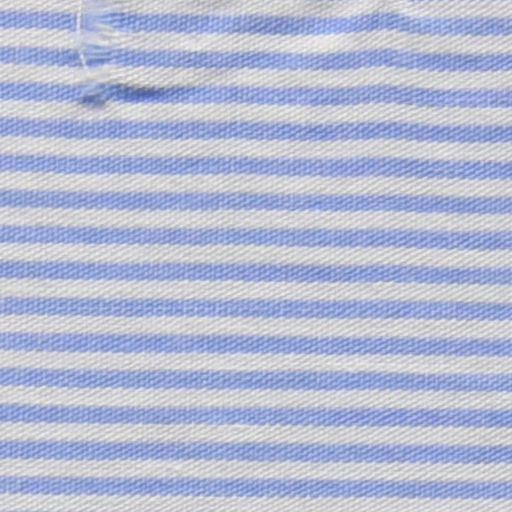defect: (68, 1, 136, 110)
